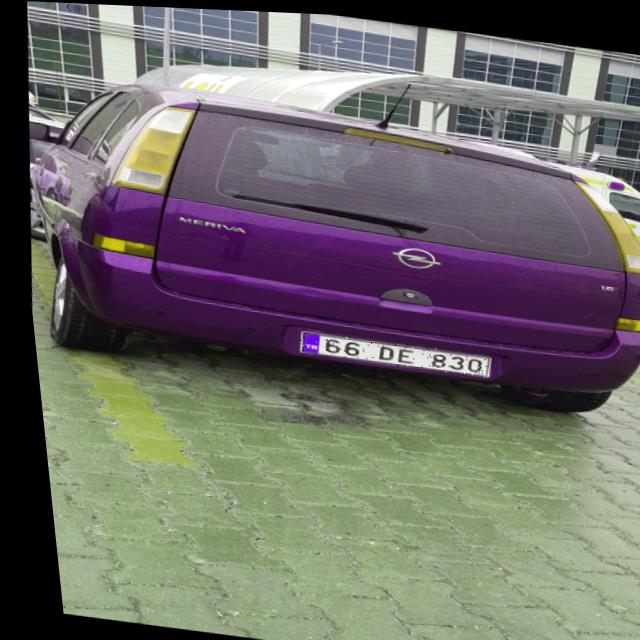license_plate: (291, 328, 485, 373)
